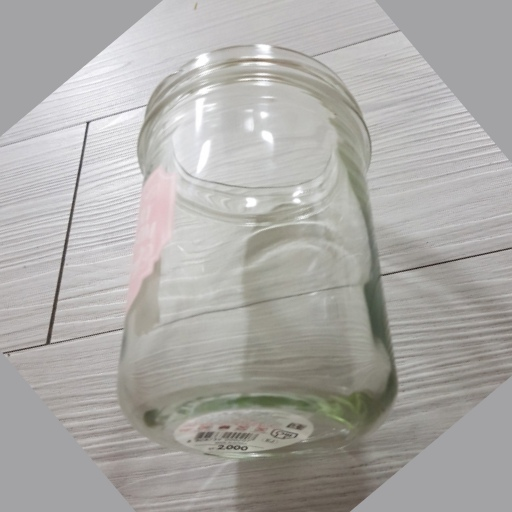Glass_5: (122, 51, 393, 454)
